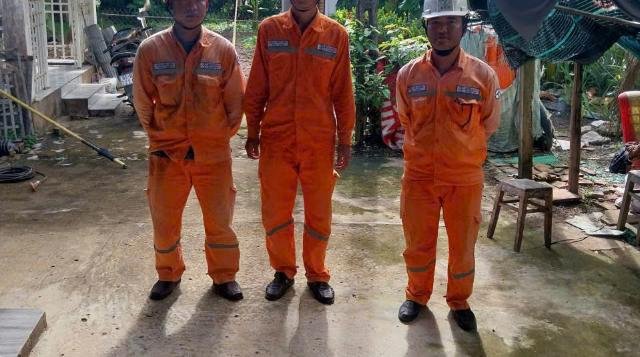helmet: (410, 0, 482, 25)
shoes: (136, 262, 187, 306), (444, 294, 488, 336), (254, 259, 299, 297), (390, 291, 432, 329), (210, 269, 249, 302), (306, 270, 341, 305)
